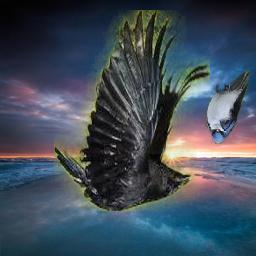Crow: (54, 11, 210, 212)
Swallow: (206, 70, 251, 144)
